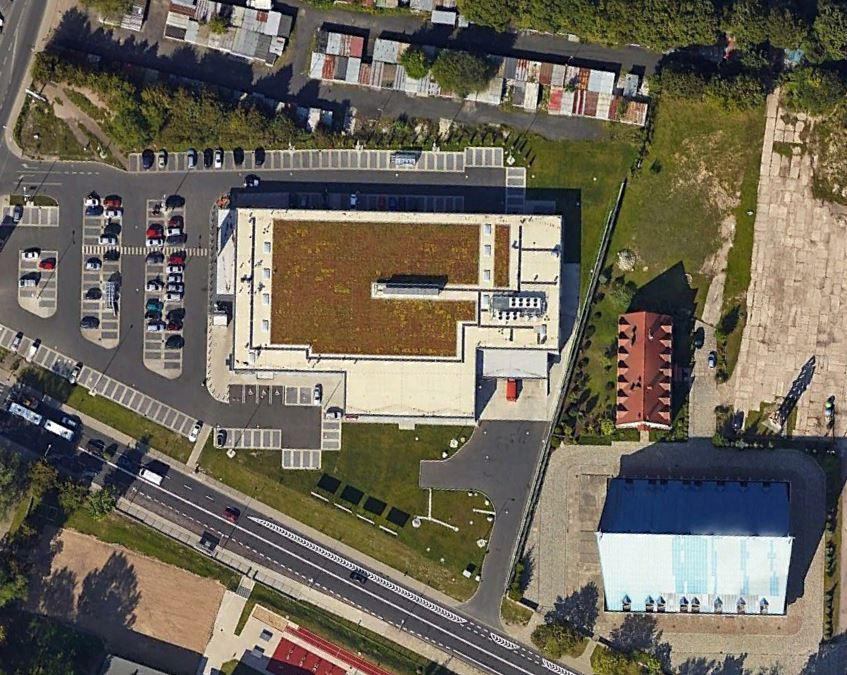church: (586, 473, 812, 626)
garage: (309, 22, 656, 128), (156, 1, 298, 68), (94, 1, 155, 34)
shopping_center: (222, 205, 574, 426)
